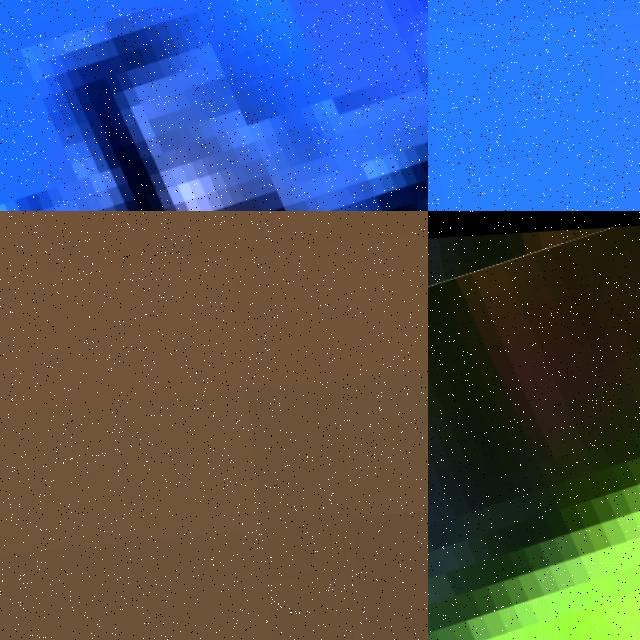0: (0, 0, 428, 211)
drone: (428, 211, 640, 640)
